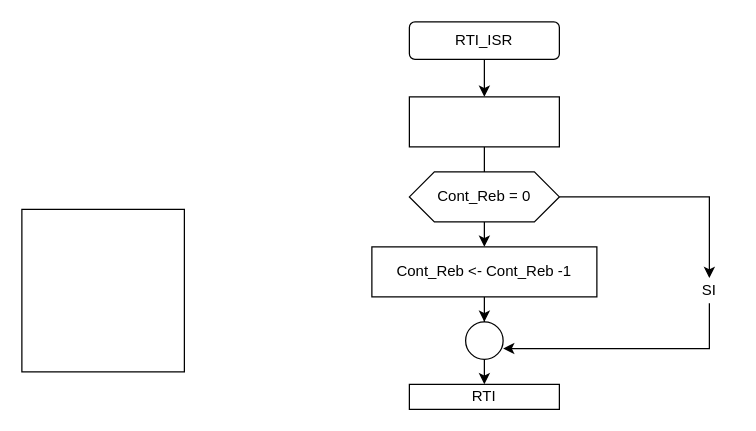
Some shapes in this 756 by 431 pixel diagram are drawn without their labels. The centre of each missing label's shape, as x and y in pixels:
"C - carry K. - Y J - X R1 - A R2 - B RR1 - D" goes at pixel 102 290.
"CRGFLG.7 <- 1" goes at pixel 483 121.
